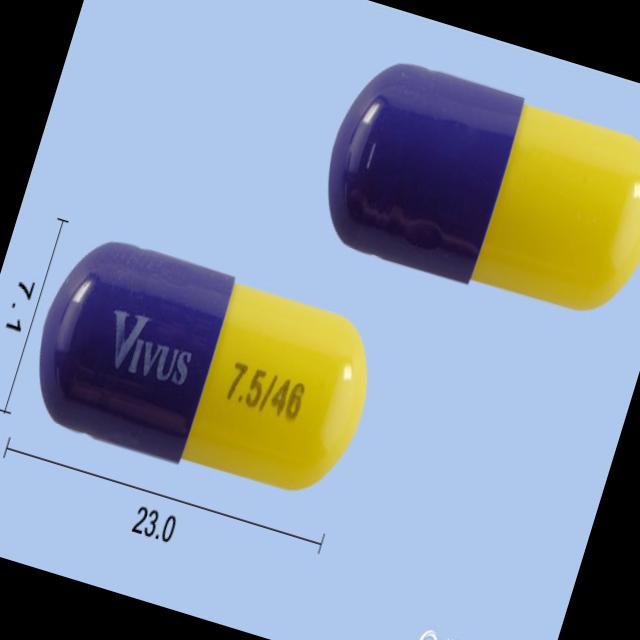Qsymia Cap-7-5mg: (15, 226, 391, 514)
